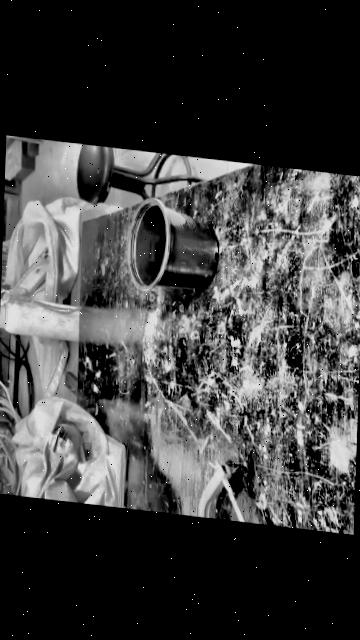pot: (128, 196, 220, 295)
